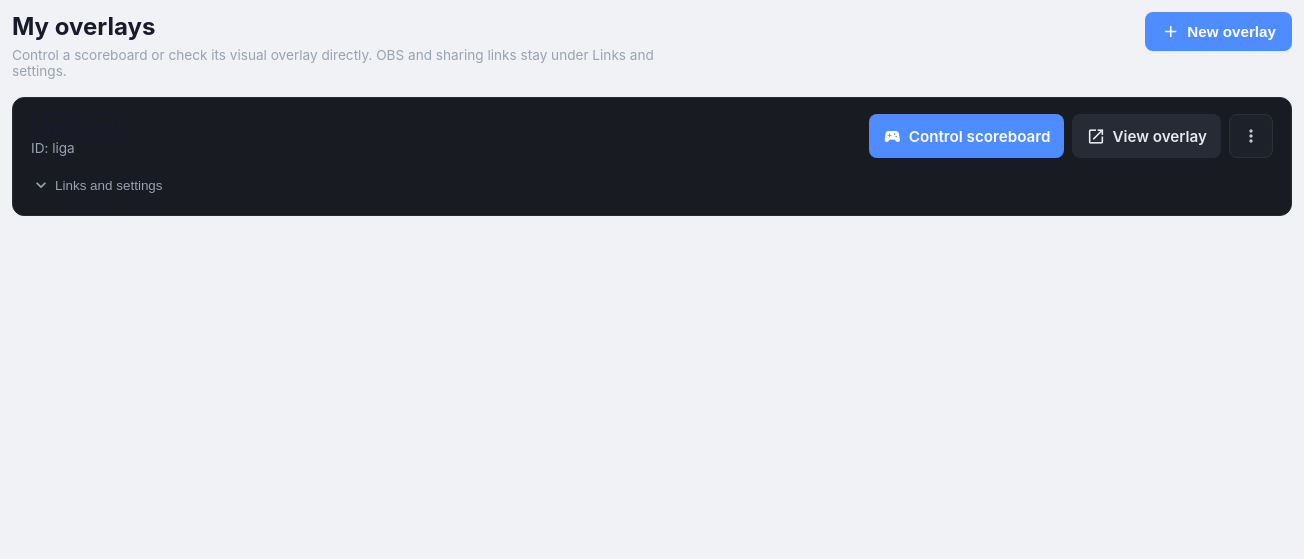
Test: OverlaysPage › expands to reveal the two jobs and both URLs inline
Click the button "Links and settings".
click(99, 185)  # box [31,166,167,204]
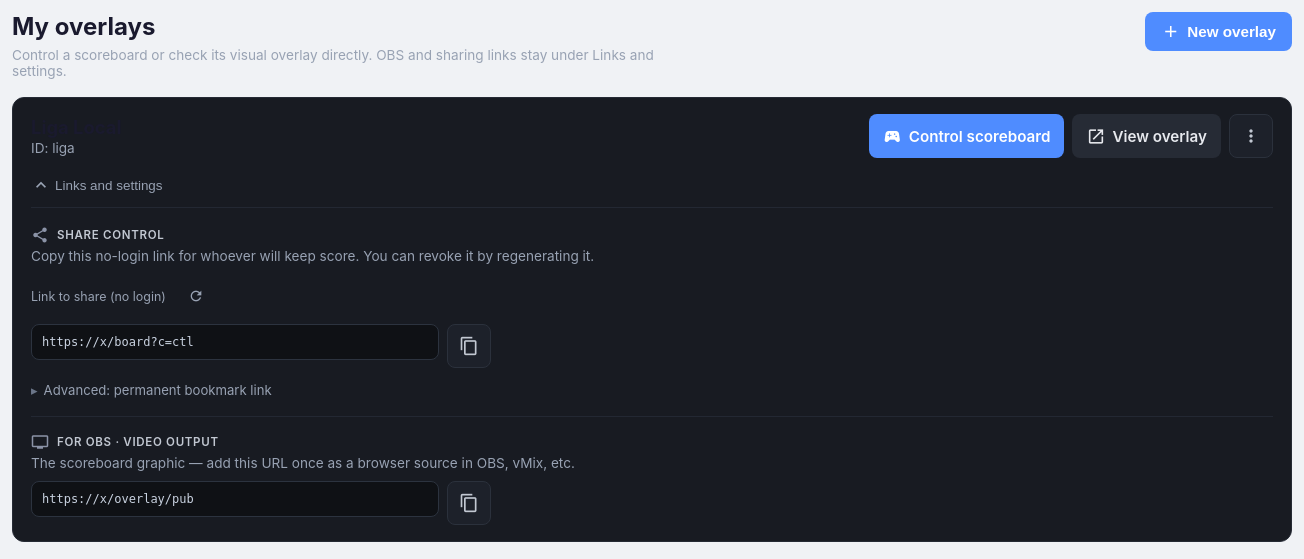
expect the text "For OBS · video output" is shown: met, box [31,433,219,451]
expect the text "Share control" is shown: met, box [31,226,164,244]
expect the field "https://x/overlay/pub" is shown: met, box [31,481,439,517]
